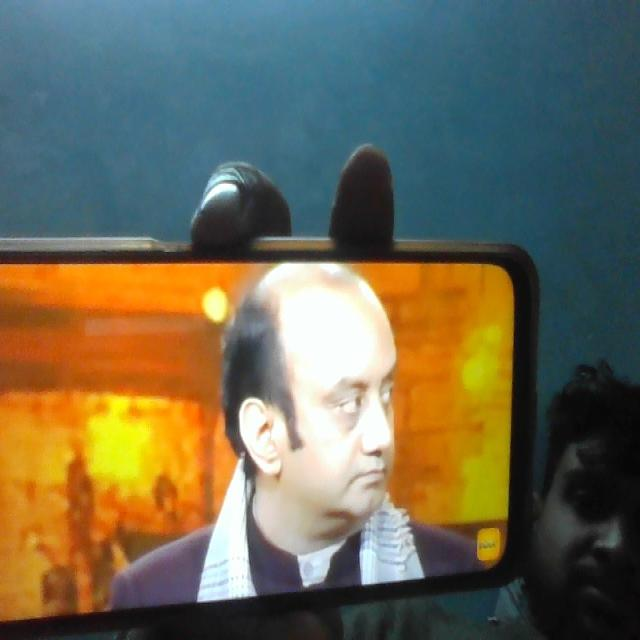fake: (256, 264, 406, 547)
